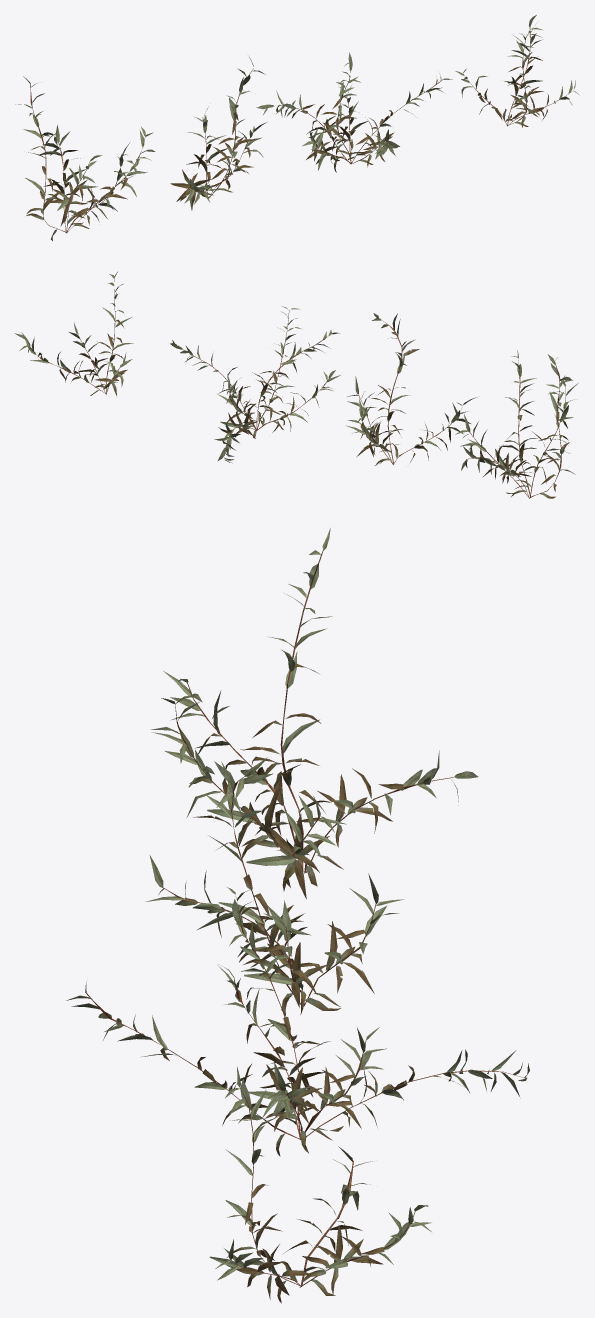
File: shrub_02_low.glb
3 renders of one model, top to bottom at view 1: azimuth 30°, elevation 25°; view 2: azimuth 150°, elevation 25°; view 3: azimuth 270°, elevation 25°, orthographic. The views are drawn at different scales.
Parts seen in each view (by area): view 1: shrub_02_a, shrub_02_c, shrub_02_b, shrub_02_d; view 2: shrub_02_c, shrub_02_a, shrub_02_b, shrub_02_d; view 3: shrub_02_a, shrub_02_c, shrub_02_b, shrub_02_d.
Boxes of the visible parts, left/top/right/bottom form: shrub_02_a: left=15, top=76, right=155, bottom=240; shrub_02_c: left=256, top=52, right=452, bottom=172; shrub_02_b: left=170, top=57, right=266, bottom=210; shrub_02_d: left=455, top=15, right=579, bottom=127; shrub_02_c: left=170, top=306, right=340, bottom=463; shrub_02_a: left=455, top=350, right=578, bottom=498; shrub_02_b: left=346, top=313, right=477, bottom=465; shrub_02_d: left=14, top=272, right=133, bottom=396; shrub_02_a: left=151, top=528, right=478, bottom=899; shrub_02_c: left=66, top=887, right=529, bottom=1156; shrub_02_b: left=145, top=757, right=404, bottom=1016; shrub_02_d: left=209, top=1066, right=431, bottom=1303.
Size of the model in its own units: 6.03 by 1.69 by 2.28.
Materials: 1 (1 with a texture image).
